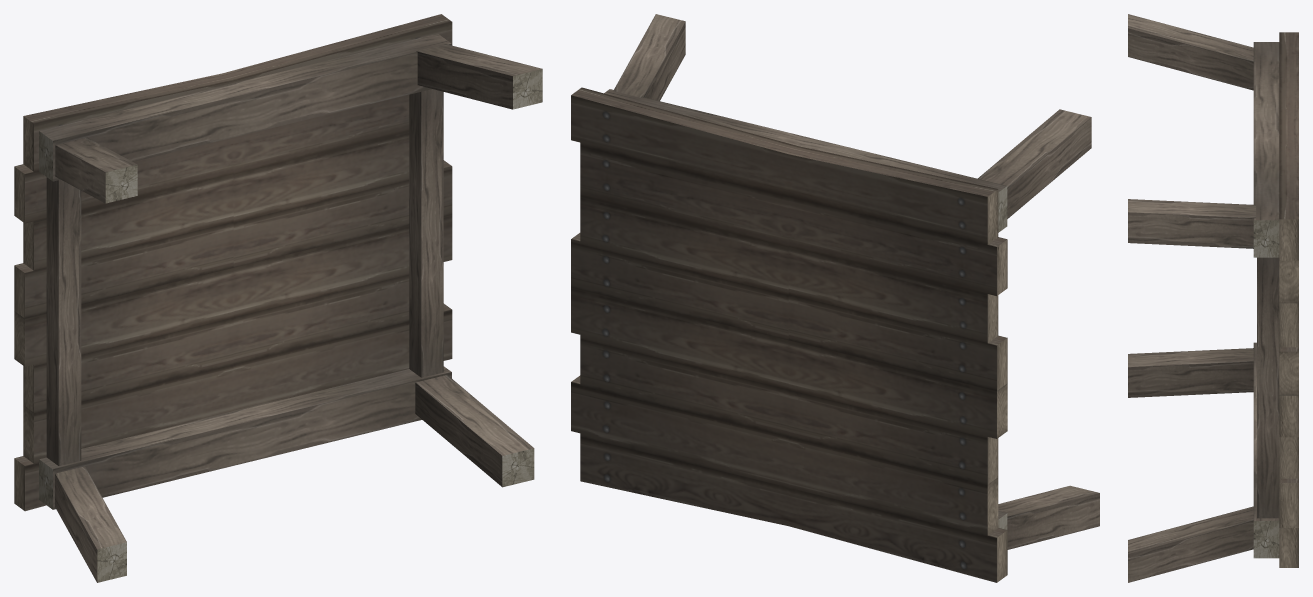
The model's file is Table_Square_A.fbx.
3 renders of one model, left to right at view 1: azimuth 30°, elevation 25°; view 2: azimuth 150°, elevation 25°; view 3: azimuth 270°, elevation 25°, orthographic. The views are drawn at different scales.
Parts seen in each view (by area): view 1: Table_Square_A; view 2: Table_Square_A; view 3: Table_Square_A.
Part boxes in pixels (x1=…): Table_Square_A: x1=14, y1=14, x2=542, y2=582; Table_Square_A: x1=571, y1=14, x2=1099, y2=582; Table_Square_A: x1=1128, y1=14, x2=1298, y2=582.
Size of the model in its own units: 2.56 by 2.26 by 0.9273.
